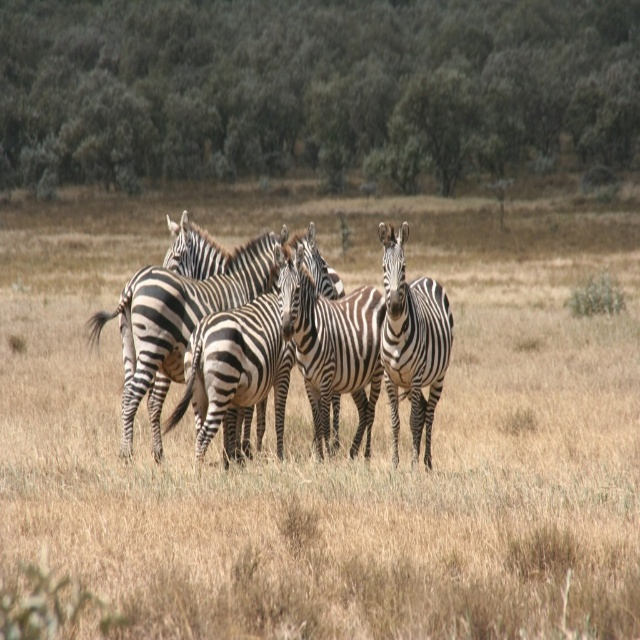Zebra: (85, 211, 454, 477)
